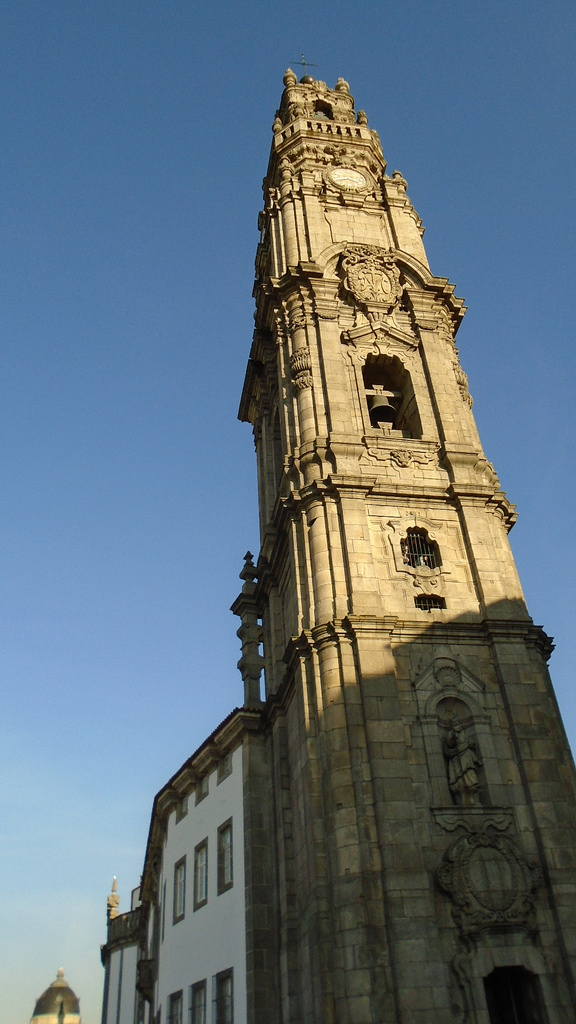clerigos: (229, 57, 575, 1023)
